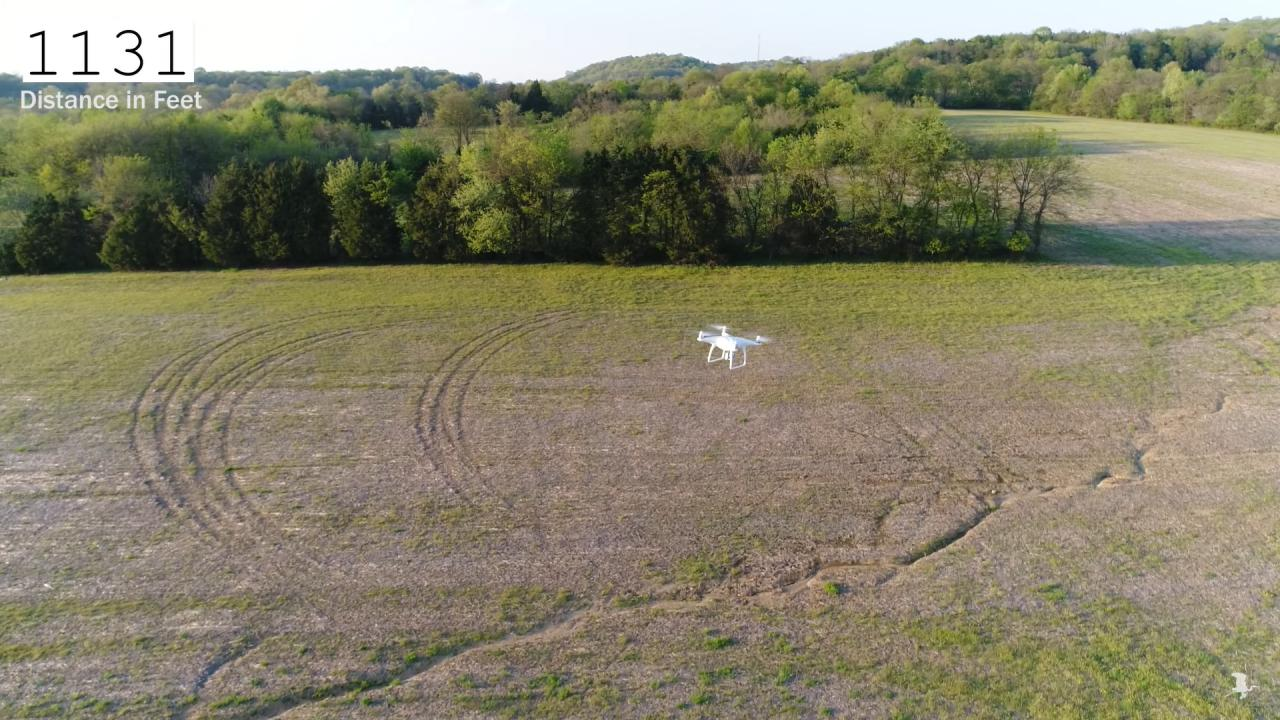Drone: (685, 312, 781, 375)
